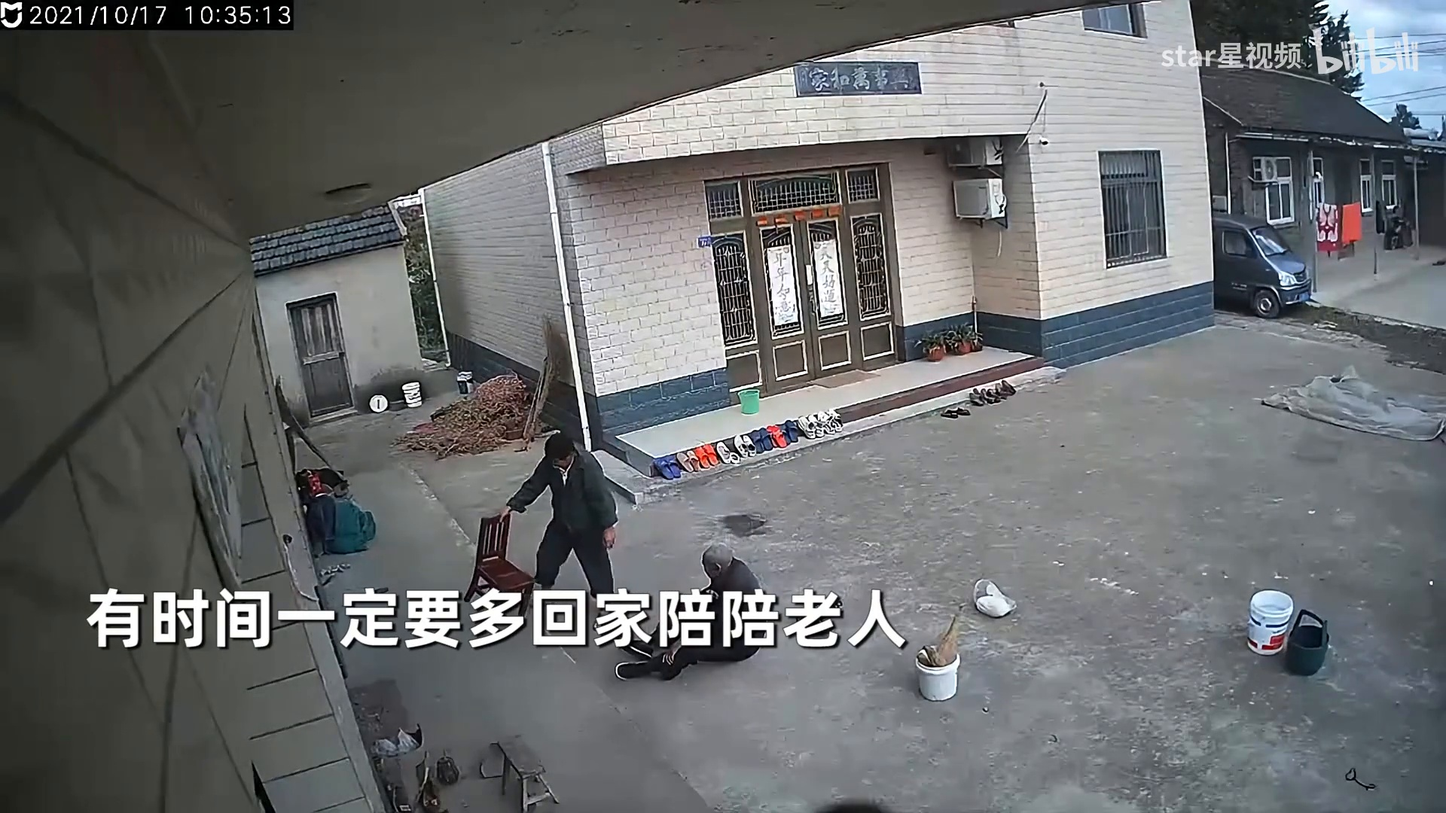half_up: (609, 546, 773, 686)
stand: (503, 432, 624, 626)
